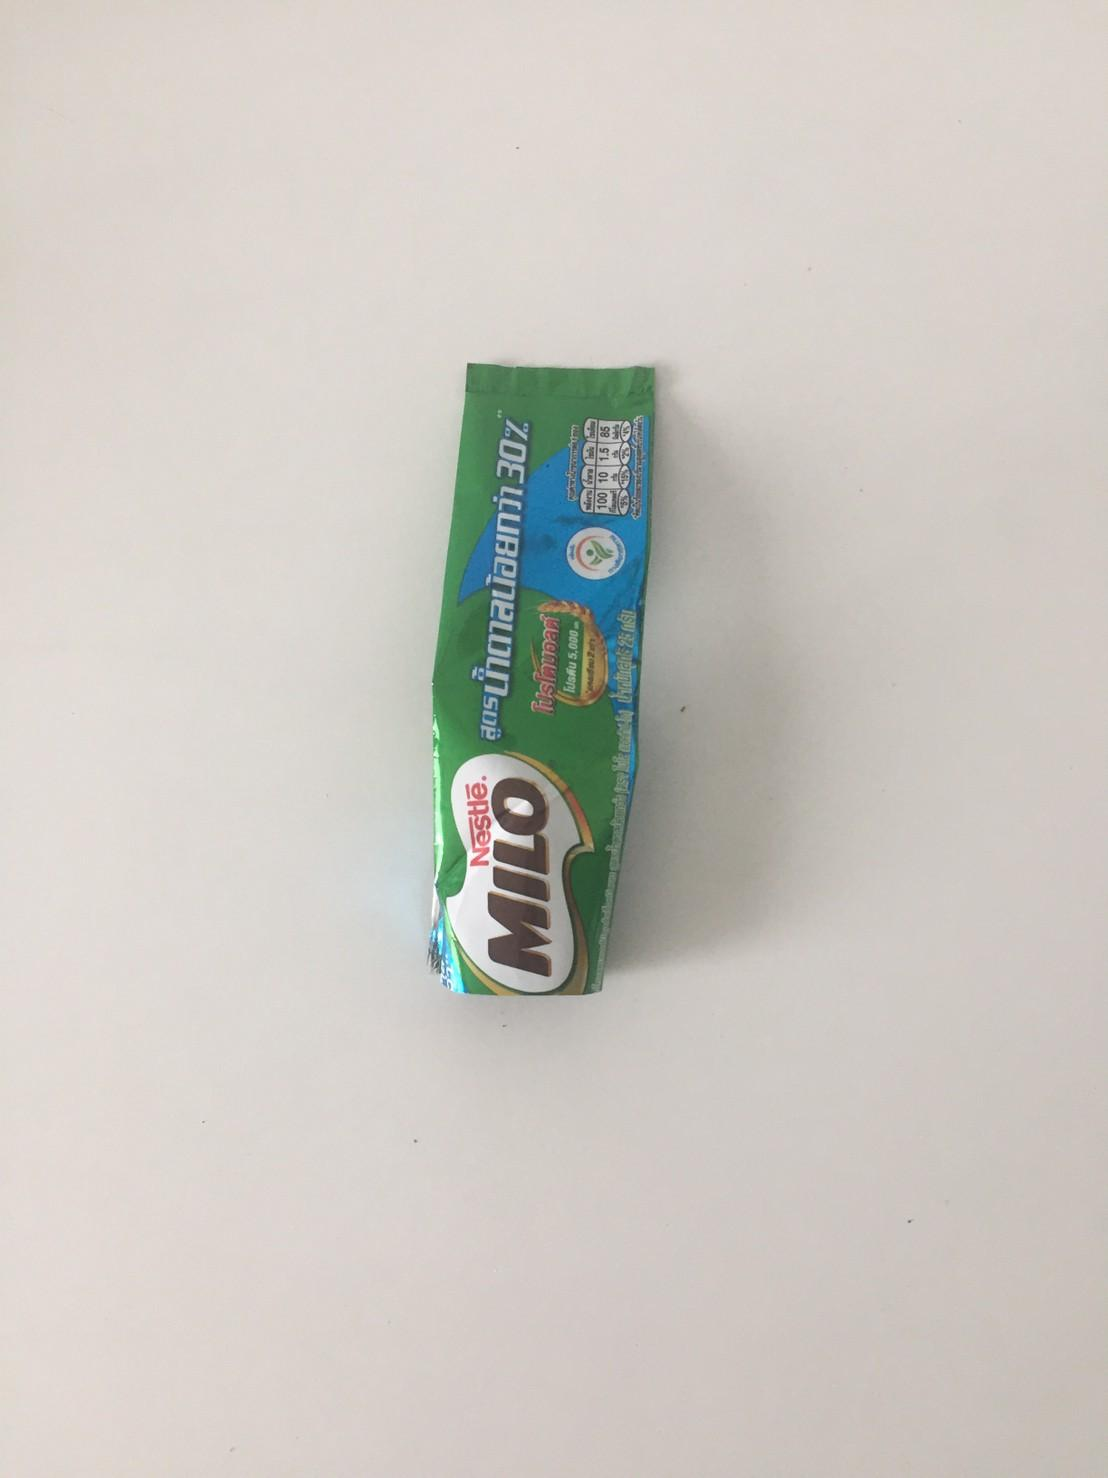plastic: (421, 340, 665, 1018)
